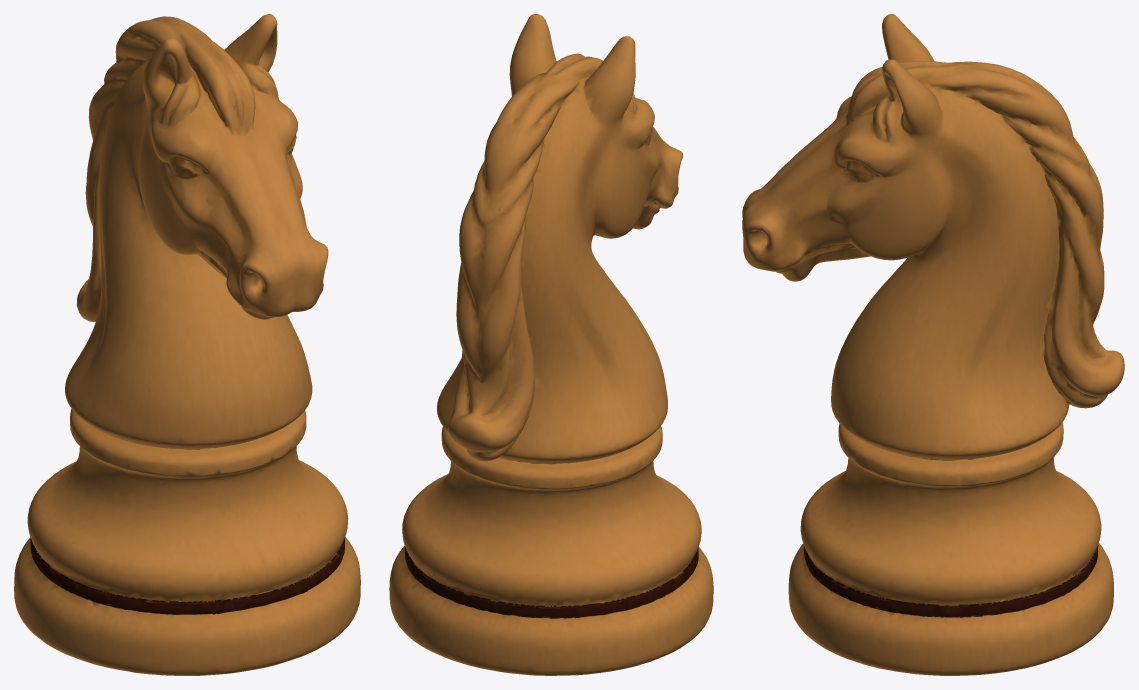
Rendered from 07_knight_light.glb.
3 renders of one model, left to right at view 1: azimuth 30°, elevation 25°; view 2: azimuth 150°, elevation 25°; view 3: azimuth 270°, elevation 25°, orthographic. The views are drawn at different scales.
Visible parts, largest first — view 1: world; view 2: world; view 3: world.
Boxes of the visible parts, <box> form: world: <box>14,14,360,675</box>; world: <box>389,14,713,675</box>; world: <box>742,14,1124,675</box>.
Bounding box in the file's own units: 0.5224 × 1 × 0.6067.
1 material, 1 textured.
